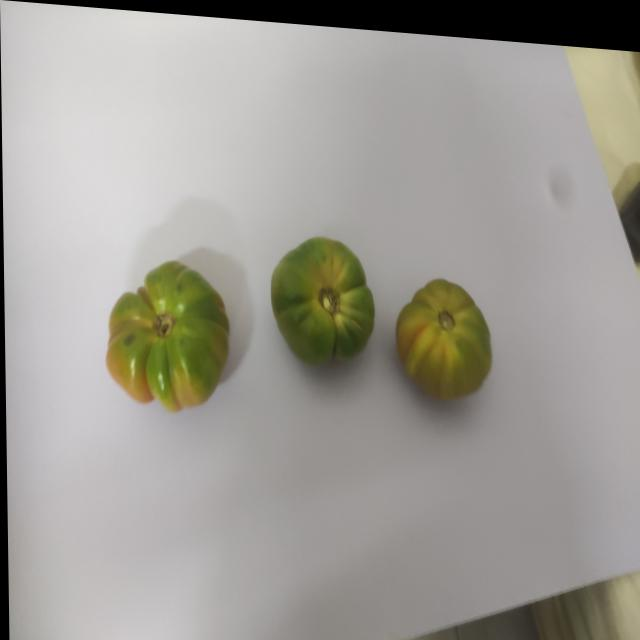yesil: (88, 236, 233, 414), (382, 249, 511, 397), (264, 214, 376, 367)
